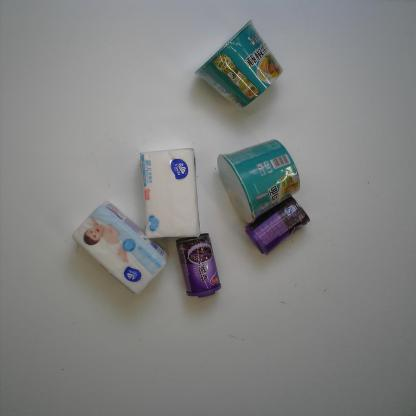Canned Food: (244, 195, 310, 256), (175, 233, 222, 298)
Instant Noodles: (194, 20, 283, 111), (217, 138, 301, 224)
Tissue: (71, 200, 169, 296), (138, 148, 200, 240)
